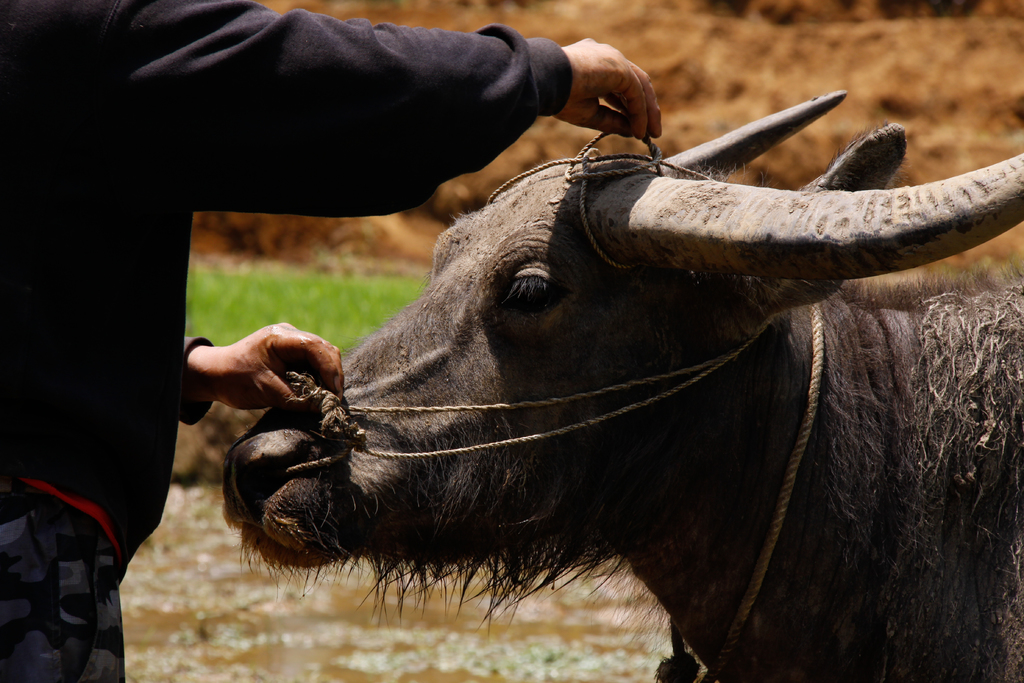Person: (0, 0, 661, 683)
